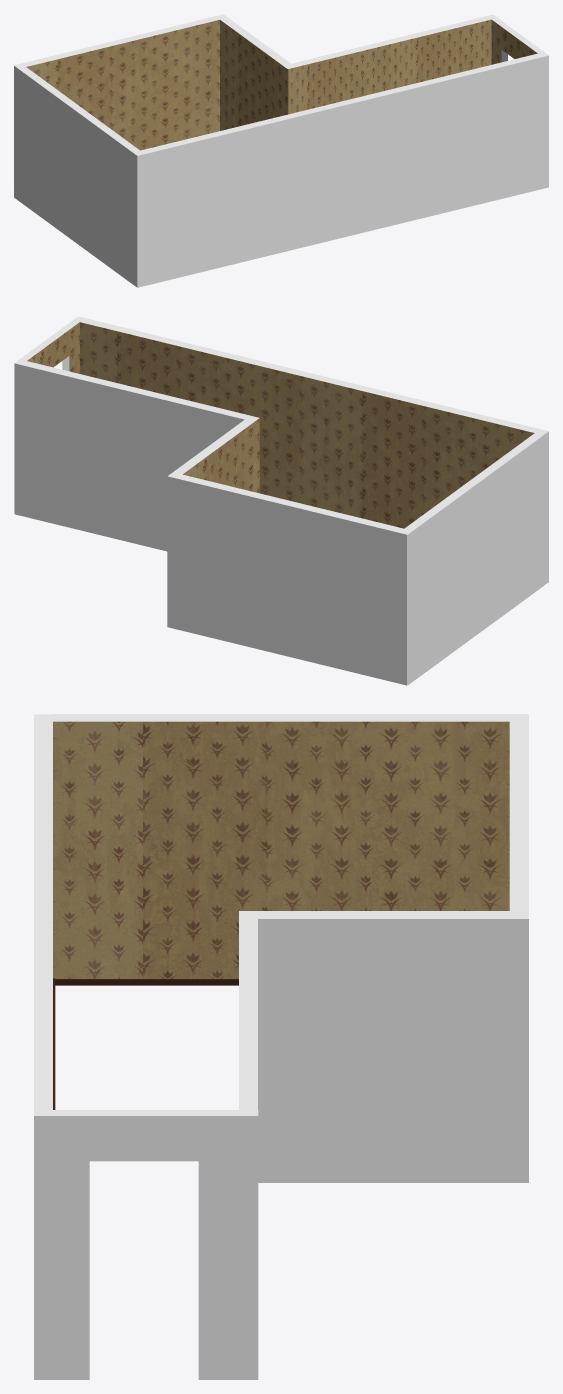
The model's file is xizhentsan_WALLS.fbx.
The picture shows the model from 3 angles, top to bottom: view 1: azimuth 30°, elevation 25°; view 2: azimuth 150°, elevation 25°; view 3: azimuth 270°, elevation 25°; orthographic projection. The views are drawn at different scales.
Parts seen in each view (by area): view 1: WALL1; view 2: WALL1; view 3: WALL1.
Boxes of the visible parts, x1=… form: WALL1: x1=14, y1=14, x2=548, y2=287; WALL1: x1=14, y1=316, x2=548, y2=685; WALL1: x1=34, y1=714, x2=528, y2=1379.
Size of the model in its own units: 847 by 259 by 441.
1 material, 1 textured.
